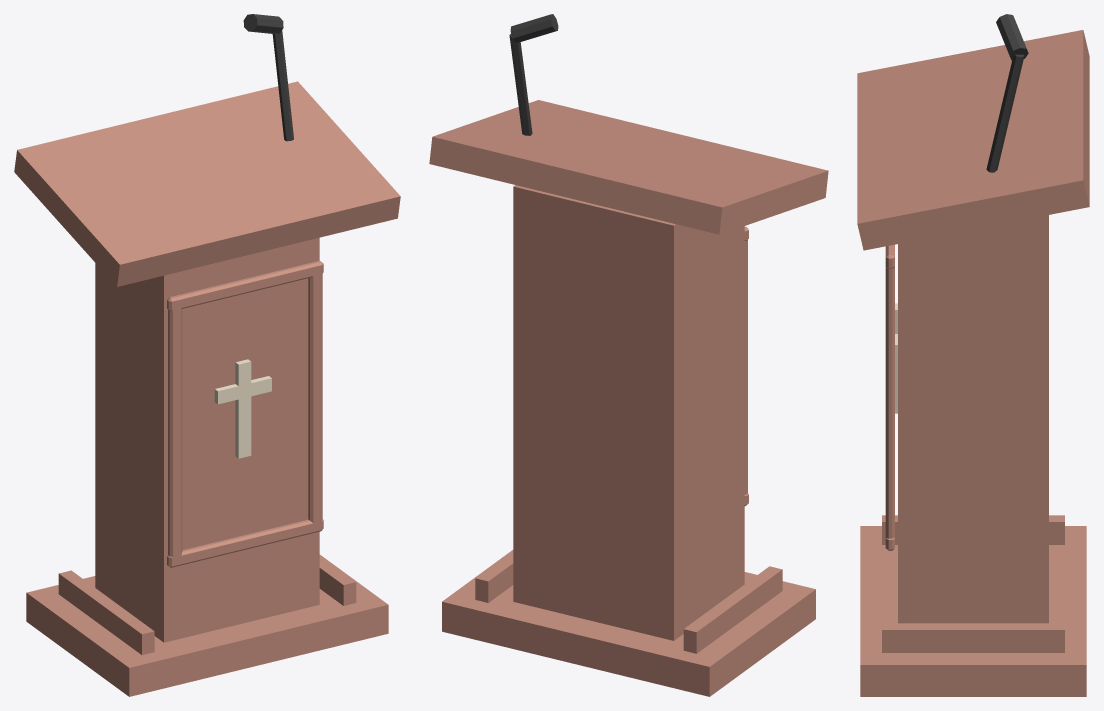
3 views of the same model, side by side, from view 1: azimuth 30°, elevation 25°; view 2: azimuth 150°, elevation 25°; view 3: azimuth 270°, elevation 25° (orthographic). The views are drawn at different scales.
Parts seen in each view (by area): view 1: Body, Reading top, Foot, Raised panel molding, Raised panel molding.001, Lower plinth, Panel trim.001, Panel trim, Cross upright, Lower plinth.001, Gooseneck microphone, Cross arm (+1 smaller); view 2: Body, Reading top, Foot, Lower plinth, Lower plinth.001, Gooseneck microphone, Raised panel molding, Microphone head; view 3: Body, Reading top, Foot, Lower plinth.001, Raised panel molding.001, Gooseneck microphone, Microphone head, Lower plinth.
Boxes of the visible parts, x1,y1,x2,y2 form: Body: (95,237,319,642); Reading top: (14,81,400,286); Foot: (26,554,388,696); Raised panel molding: (168,304,182,561); Raised panel molding.001: (308,274,322,523); Lower plinth: (58,570,154,654); Panel trim.001: (167,260,323,310); Panel trim: (167,519,323,567); Cross upright: (235,359,251,458); Lower plinth.001: (319,555,356,605); Gooseneck microphone: (272,30,293,141); Cross arm: (214,376,271,404); Body: (513,185,744,640); Reading top: (429,100,828,234); Foot: (442,550,815,696); Lower plinth: (683,566,782,653); Lower plinth.001: (475,551,513,602); Gooseneck microphone: (509,33,532,135); Raised panel molding: (744,240,747,494); Microphone head: (510,14,558,42); Body: (898,215,1048,623); Reading top: (857,30,1089,250); Foot: (860,526,1086,696); Lower plinth.001: (882,623,1064,652); Raised panel molding.001: (885,267,894,538); Gooseneck microphone: (986,54,1024,172); Microphone head: (996,14,1028,60); Lower plinth: (882,515,1064,544).
Size of the model in its own units: 0.78 by 1.56 by 0.5087.
Materials: 1 (1 with a texture image).
